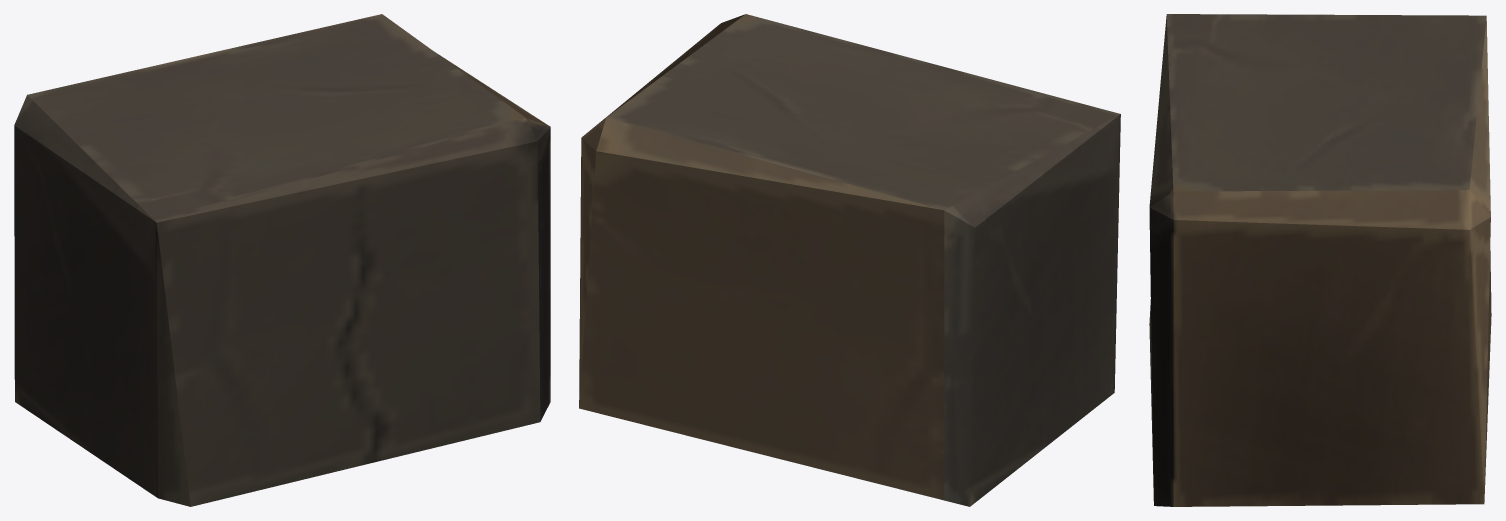
File: SM_EgyptianBlock2x2x2.fbx
3 renders of one model, left to right at view 1: azimuth 30°, elevation 25°; view 2: azimuth 150°, elevation 25°; view 3: azimuth 270°, elevation 25°, orthographic. The views are drawn at different scales.
Visible parts, largest first — view 1: Object002; view 2: Object002; view 3: Object002.
Part boxes in pixels (x1=…): Object002: x1=14, y1=14, x2=550, y2=506; Object002: x1=579, y1=14, x2=1120, y2=506; Object002: x1=1149, y1=14, x2=1491, y2=506.
Bounding box in the file's own units: 34 × 24.51 × 24.28.
